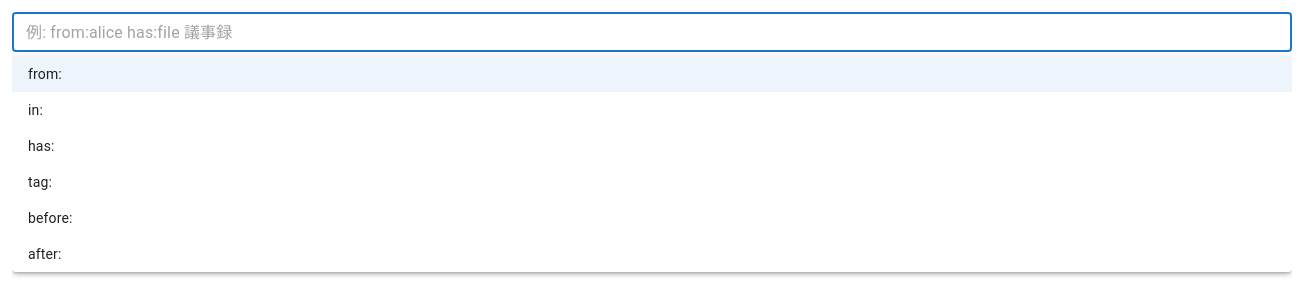
Test: ChipFilterInput (Step 7c-1) › 検索構文オートコンプリート (Issue #326) › 値の候補表示 › "from:" を入力した直後、users 配列のユーザー名候補が表示される
Type "from:" into the field named "メッセージ検索" at (652, 32), box [12,12,1292,52]
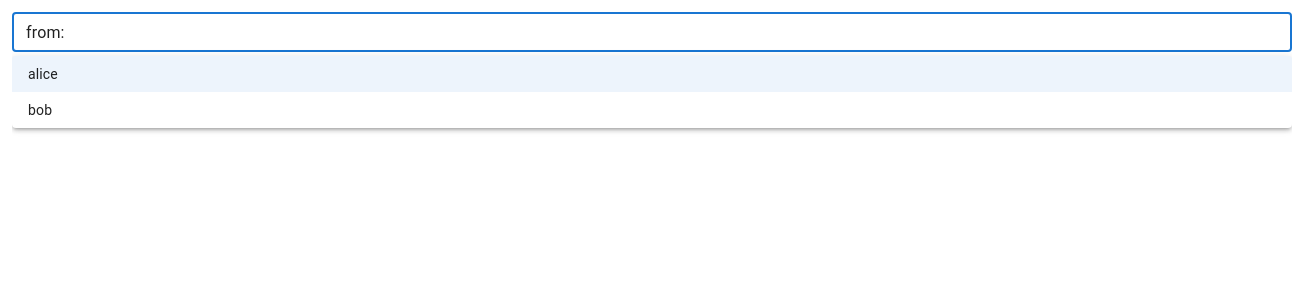
Expected: the option "alice" is shown, [12,56,1292,92]
Expected: the option "bob" is shown, [28,102,52,118]
